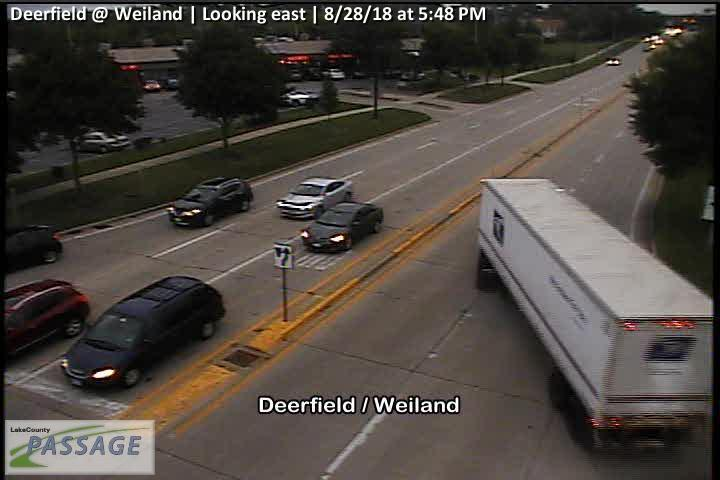SUV: (62, 276, 226, 385), (1, 280, 90, 363), (1, 223, 64, 272)
Sedan: (168, 176, 256, 226), (301, 201, 384, 252), (277, 177, 354, 220), (79, 132, 130, 151)
Truck: (476, 177, 715, 448)
